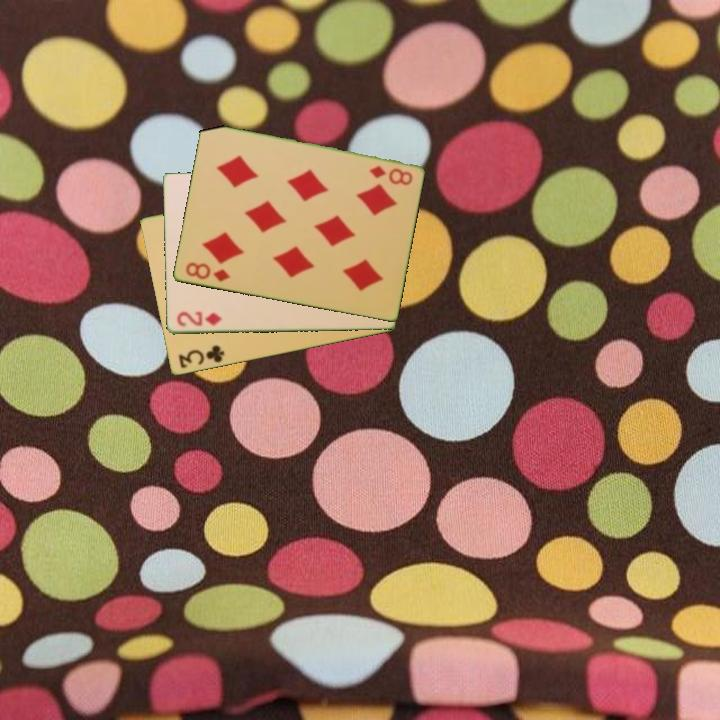2d: (173, 308, 225, 330)
3c: (174, 342, 227, 371)
8d: (182, 259, 232, 285), (366, 162, 415, 187)
